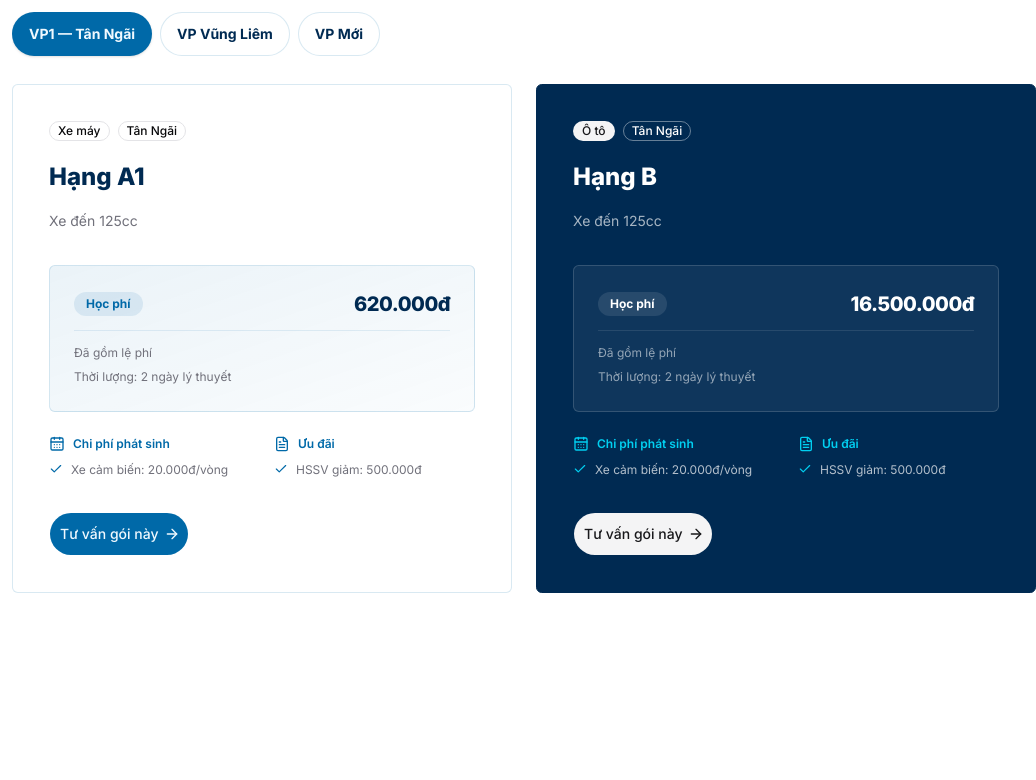
PricingSection › mặc định chi nhánh đầu, đổi tab đổi giá và link tư vấn
Expected: the text "620.000đ" is shown, top-left (354, 290), bottom-right (450, 318)
Expected: the text "16.500.000đ" is shown, top-left (851, 290), bottom-right (974, 318)
Click the tab "VP Vũng Liêm" at coordinates (225, 34), box top-left (160, 12), bottom-right (290, 56)
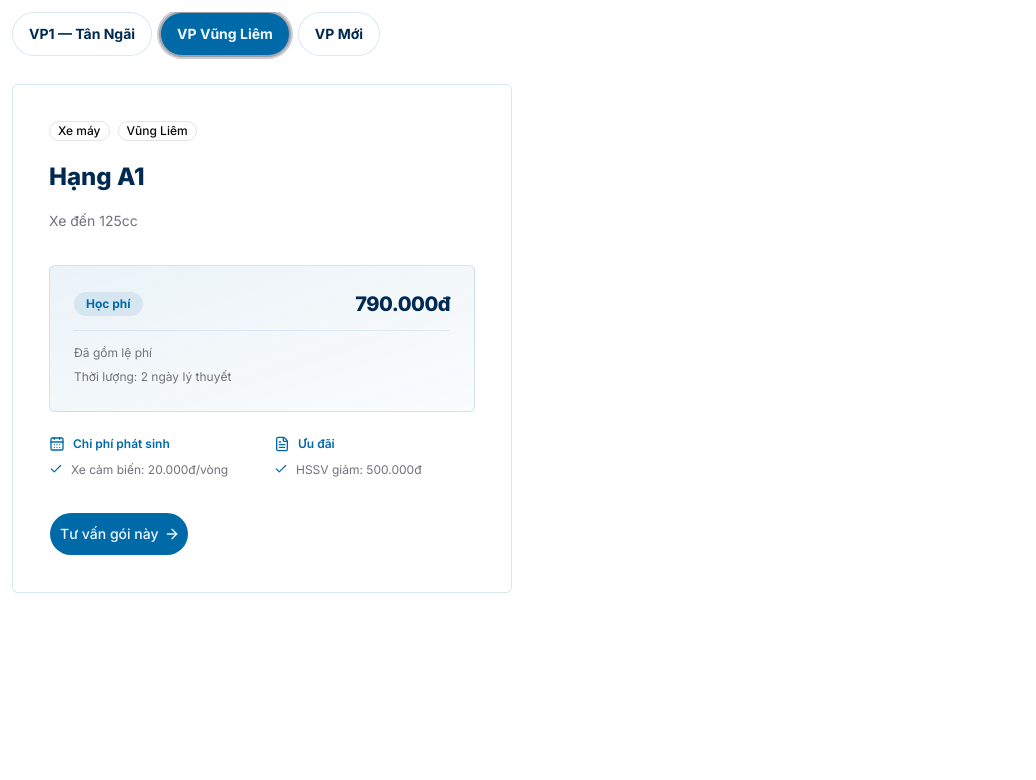
Expected: the text "790.000đ" is shown, top-left (355, 290), bottom-right (450, 318)
Expected: the text "16.500.000đ" is gone
